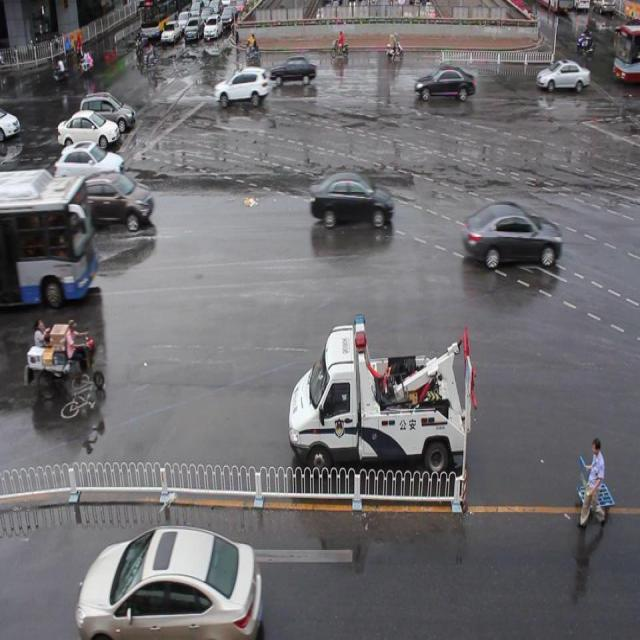car: (463, 200, 561, 269), (306, 169, 394, 230), (62, 171, 154, 228), (213, 66, 269, 109), (415, 64, 474, 104), (534, 56, 590, 97), (268, 53, 318, 89)
van: (0, 170, 96, 302)
